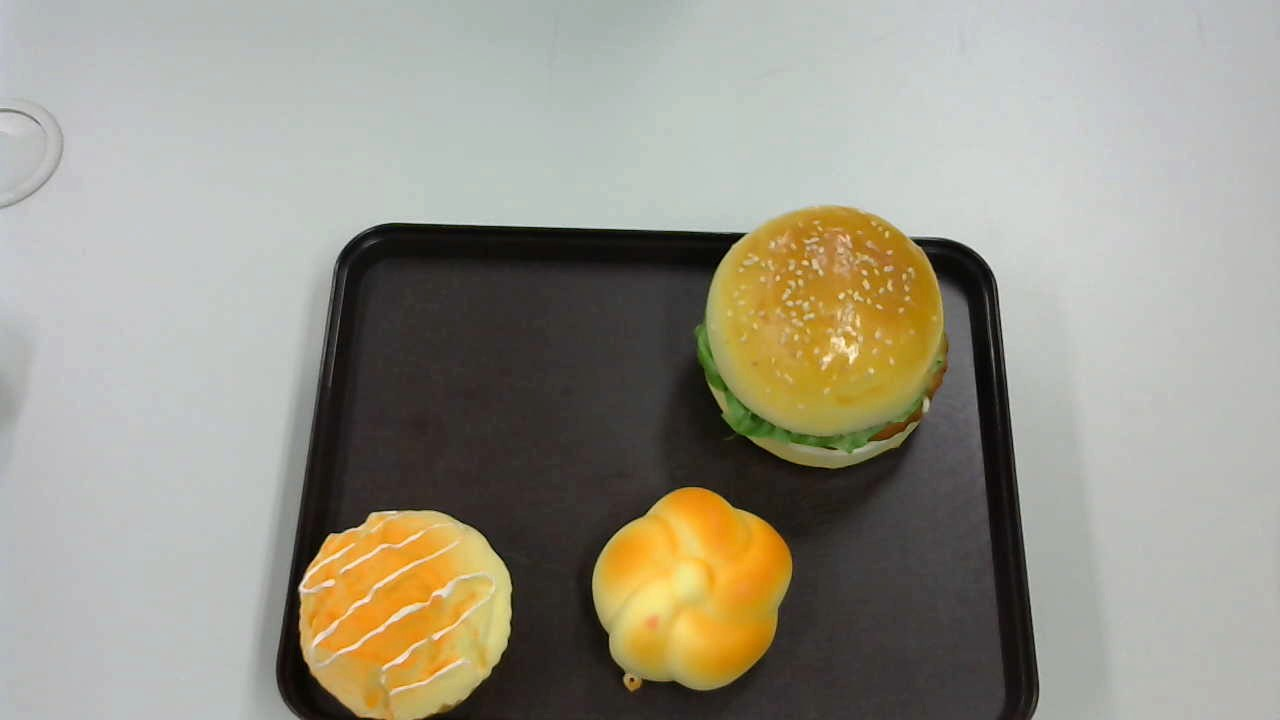cupcake: (300, 508, 512, 720)
hamburger: (694, 207, 948, 468)
twist bread: (591, 487, 794, 691)
